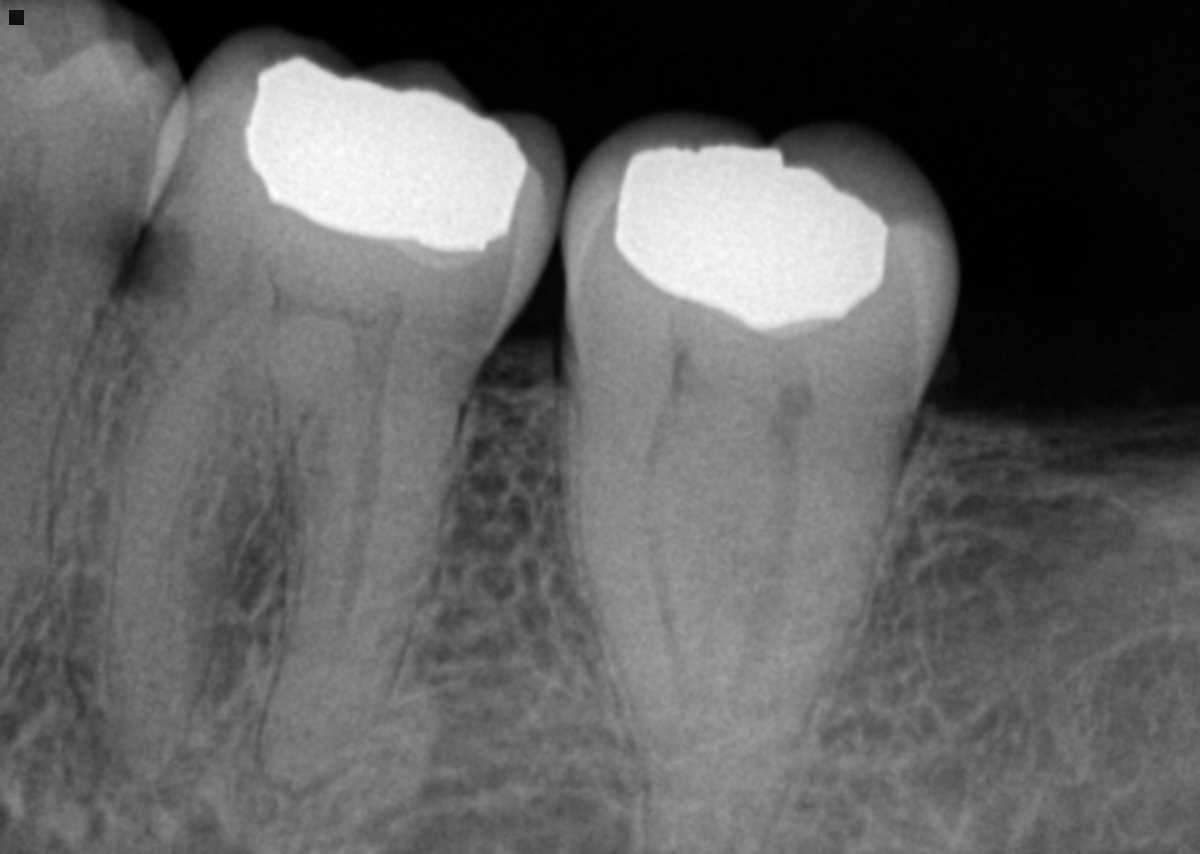Distal Canal: (737, 413, 805, 727), (333, 355, 393, 667)
Distal Root: (257, 327, 480, 796), (711, 403, 921, 854)
Main Root: (0, 234, 111, 677)
Mesial Canal: (102, 277, 327, 785), (636, 403, 694, 726)
Mesial Root: (574, 381, 744, 854)
decay: (119, 226, 191, 294)
